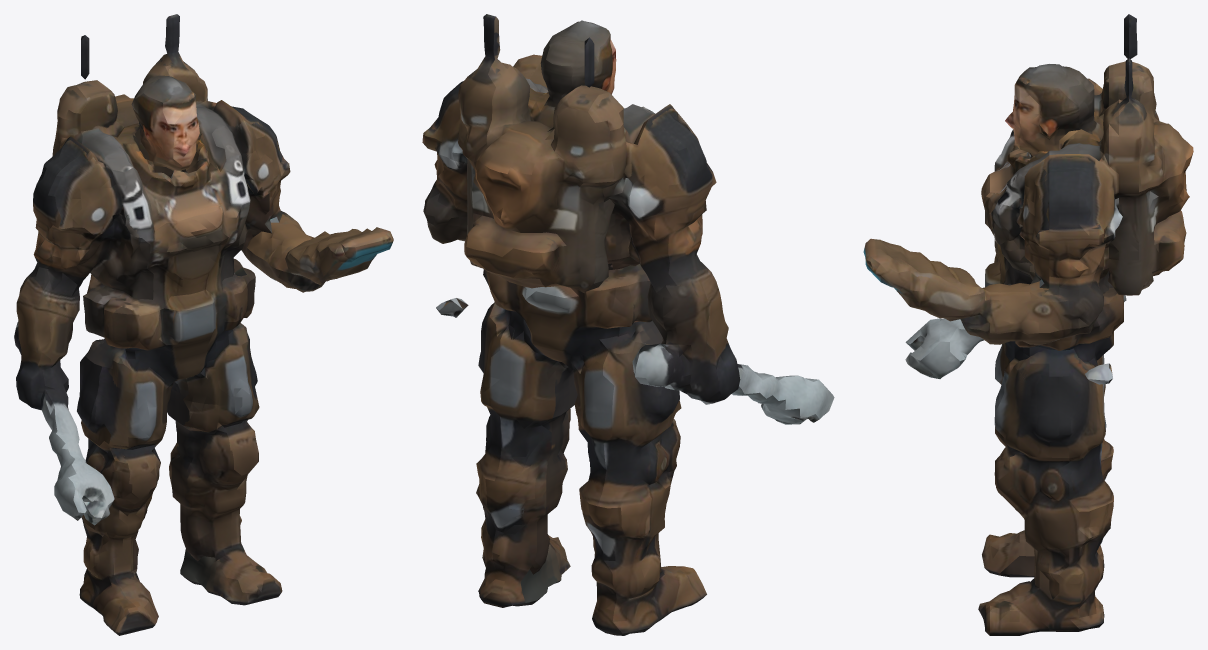
Rendered from Engineer.glb.
3 renders of one model, left to right at view 1: azimuth 30°, elevation 25°; view 2: azimuth 150°, elevation 25°; view 3: azimuth 270°, elevation 25°, orthographic. The views are drawn at different scales.
Visible parts, largest first — view 1: tmpr17mjlae.ply; view 2: tmpr17mjlae.ply; view 3: tmpr17mjlae.ply.
Part boxes in pixels (x1,y1,x2,y2): tmpr17mjlae.ply: (14,14,393,635); tmpr17mjlae.ply: (422,14,834,635); tmpr17mjlae.ply: (863,14,1193,635).
Size of the model in its own units: 1.13 by 1.93 by 1.03.
Materials: 1 (1 with a texture image).
